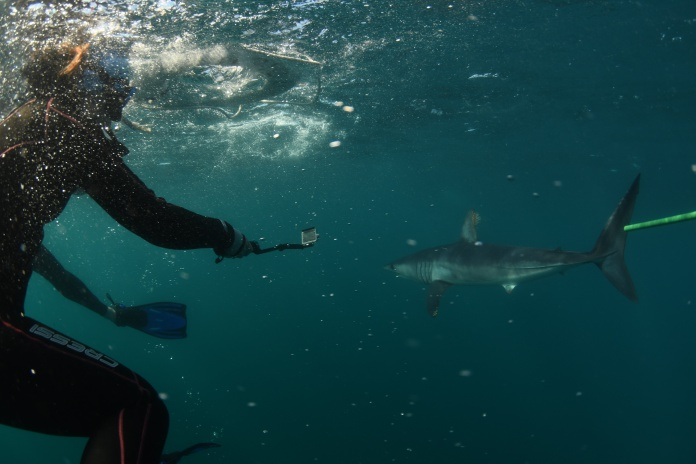Mako: (382, 165, 655, 320)
